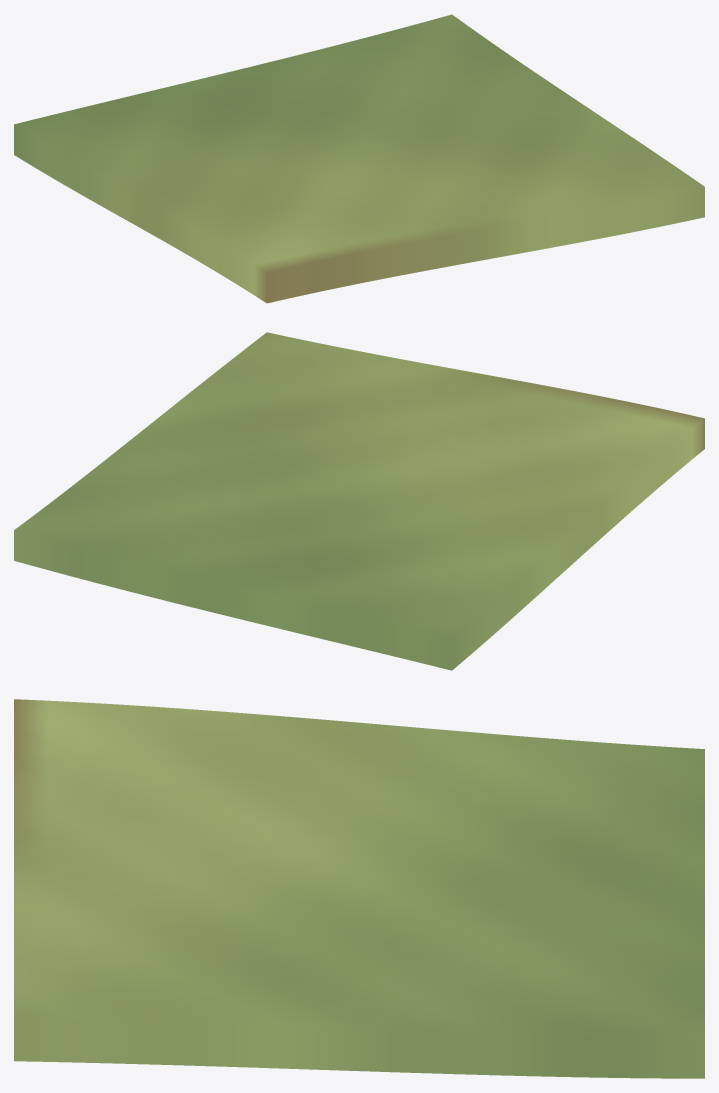
3 renders of one model, top to bottom at view 1: azimuth 30°, elevation 25°; view 2: azimuth 150°, elevation 25°; view 3: azimuth 270°, elevation 25°, orthographic. The views are drawn at different scales.
Visible parts, largest first — view 1: terrain; view 2: terrain; view 3: terrain.
Boxes of the visible parts, <box> form: terrain: <box>14,14,704,303</box>; terrain: <box>14,332,704,670</box>; terrain: <box>14,699,704,1078</box>.
Bounding box in the file's own units: 30 × 4.41 × 30.
